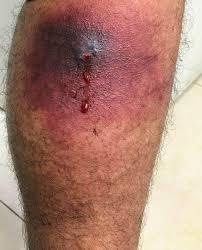Spider: (33, 0, 161, 139)
